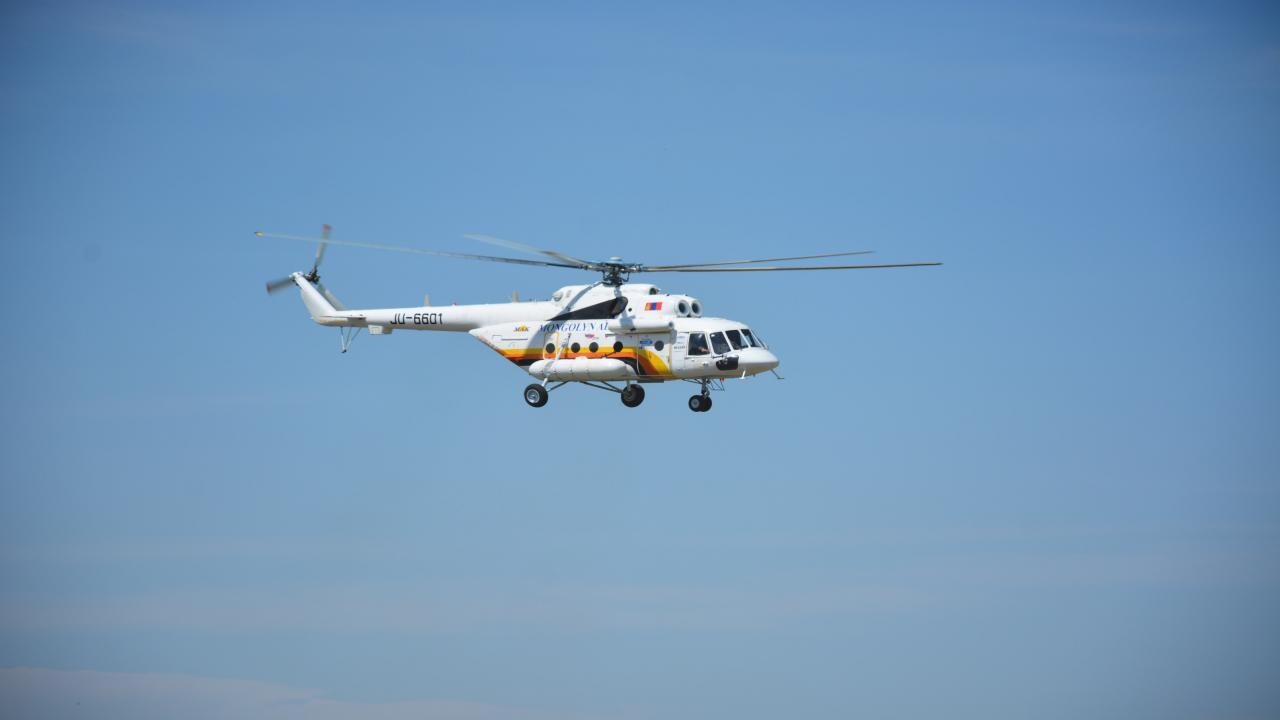Helicopter: (237, 161, 960, 471)
